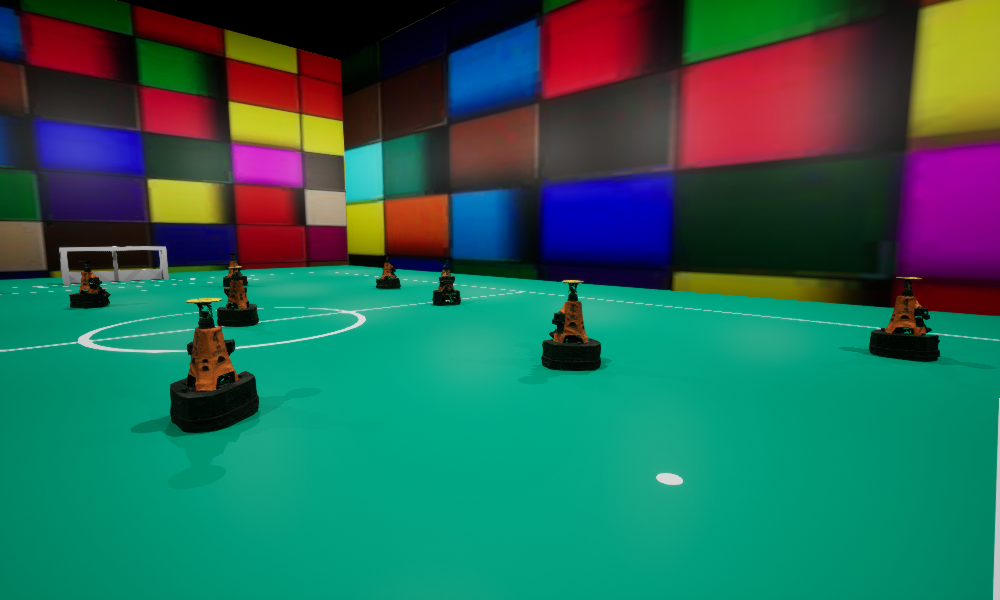o: (170, 298, 258, 432), (869, 277, 939, 361), (541, 280, 600, 370), (217, 266, 258, 326), (69, 261, 110, 308), (432, 260, 460, 305), (376, 255, 400, 288), (223, 254, 247, 286)
